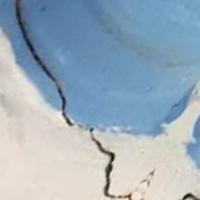crack: (7, 0, 154, 199)
